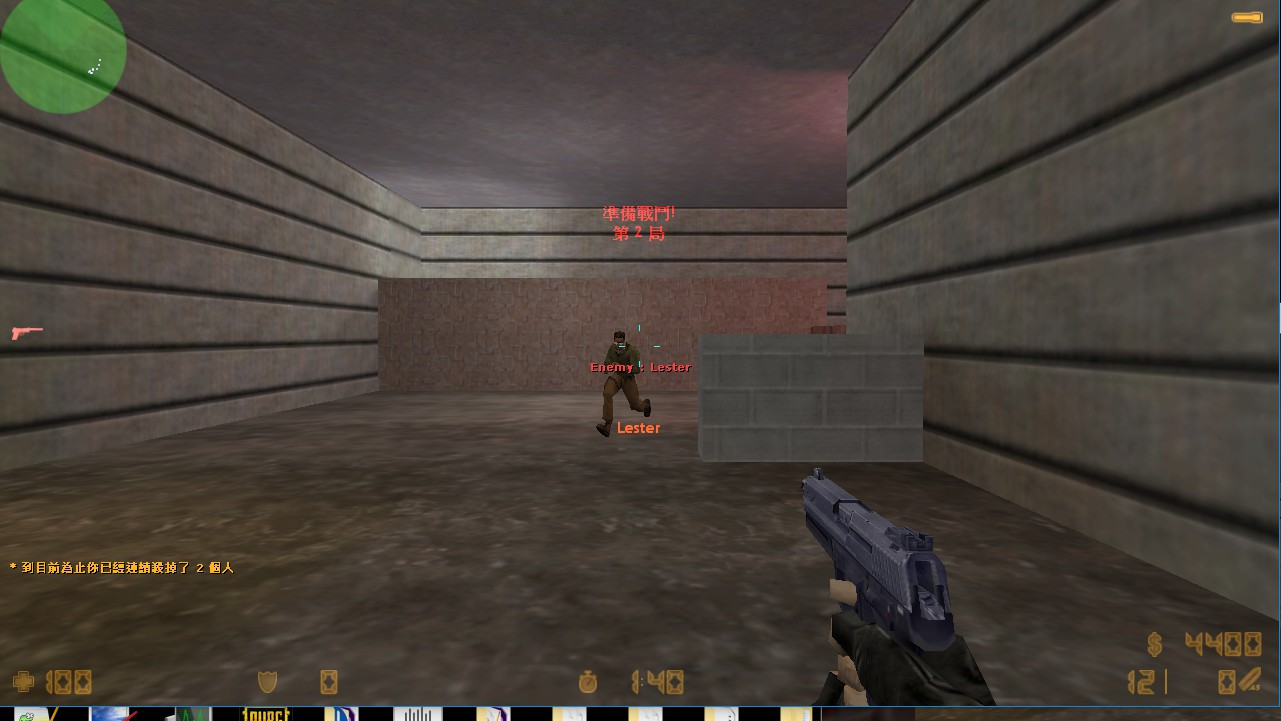person: (597, 329, 660, 442)
